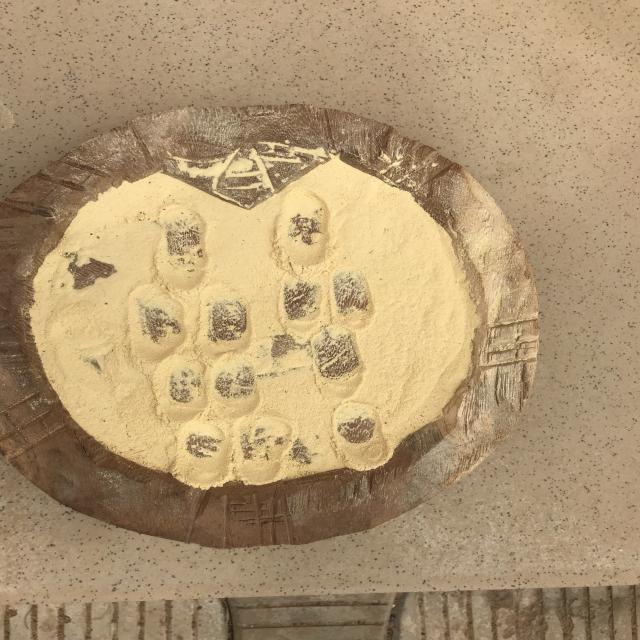double: (121, 281, 252, 357), (170, 414, 300, 484), (146, 352, 266, 417), (278, 262, 376, 332)
single: (272, 186, 336, 272), (154, 202, 216, 288), (325, 400, 394, 466), (310, 322, 370, 394)
